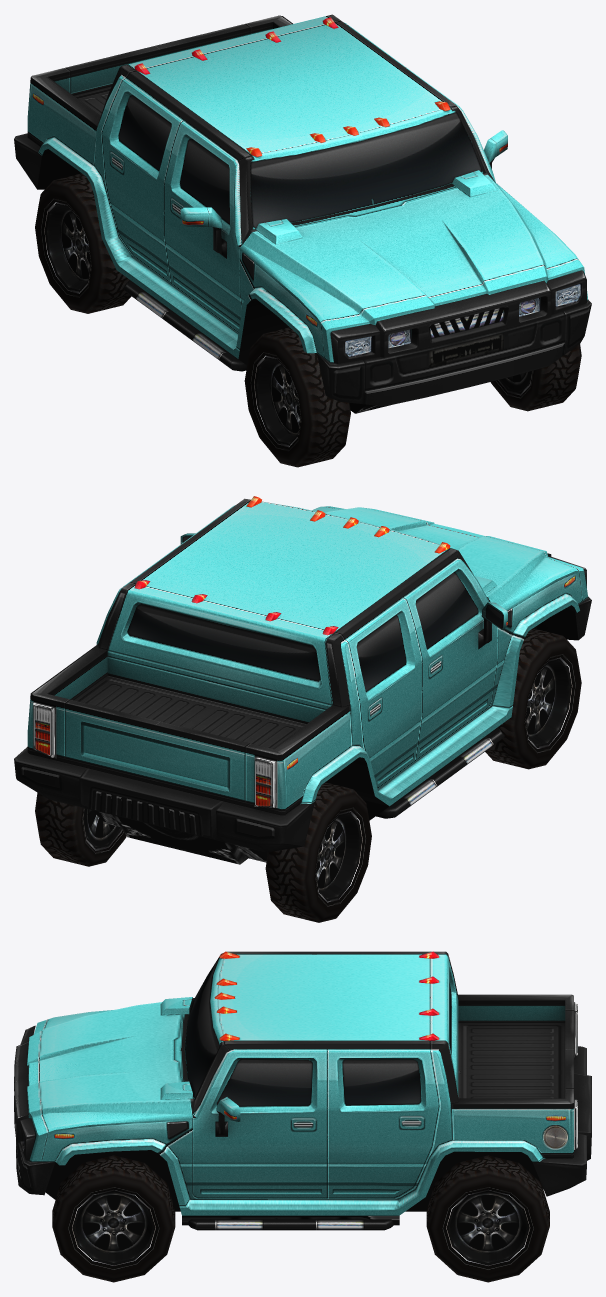
File: traf_hummer.fbx
3 views of the same model, one above another, from view 1: azimuth 30°, elevation 25°; view 2: azimuth 150°, elevation 25°; view 3: azimuth 270°, elevation 25° (orthographic). The views are drawn at different scales.
Visible parts, largest first — view 1: traf_hummer; view 2: traf_hummer; view 3: traf_hummer.
Boxes of the visible parts, <box> form: traf_hummer: <box>14,14,591,467</box>; traf_hummer: <box>14,496,591,922</box>; traf_hummer: <box>14,951,591,1282</box>.
Size of the model in its own units: 265 by 203 by 459.
